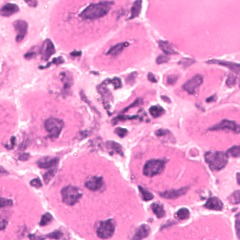New: (21, 95, 88, 153), (126, 141, 185, 185)
